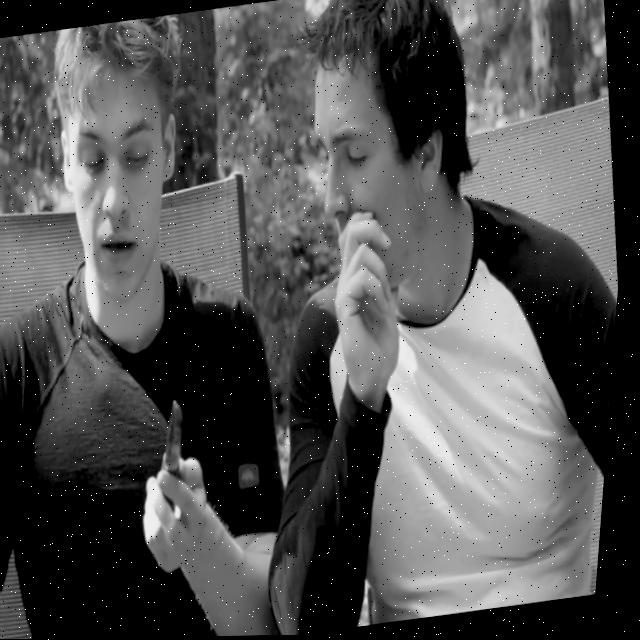knife: (157, 395, 197, 480)
